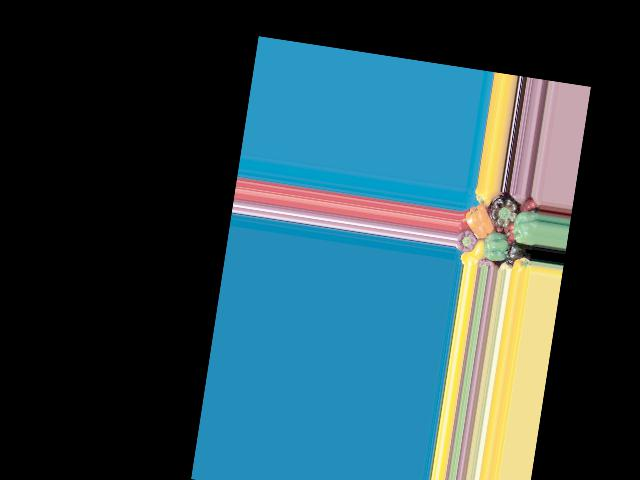bell_pepper: (514, 208, 540, 244)
